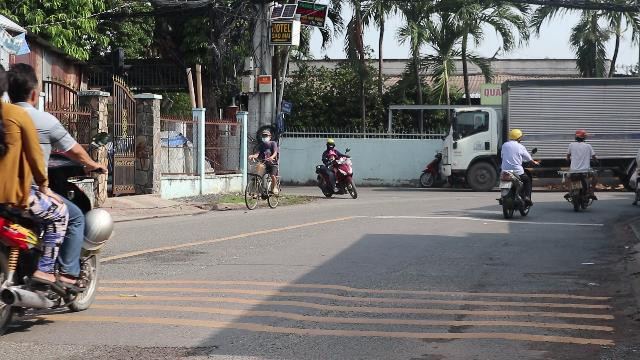motorcyclist: (0, 60, 114, 334)
nohelmet: (3, 62, 41, 106)
